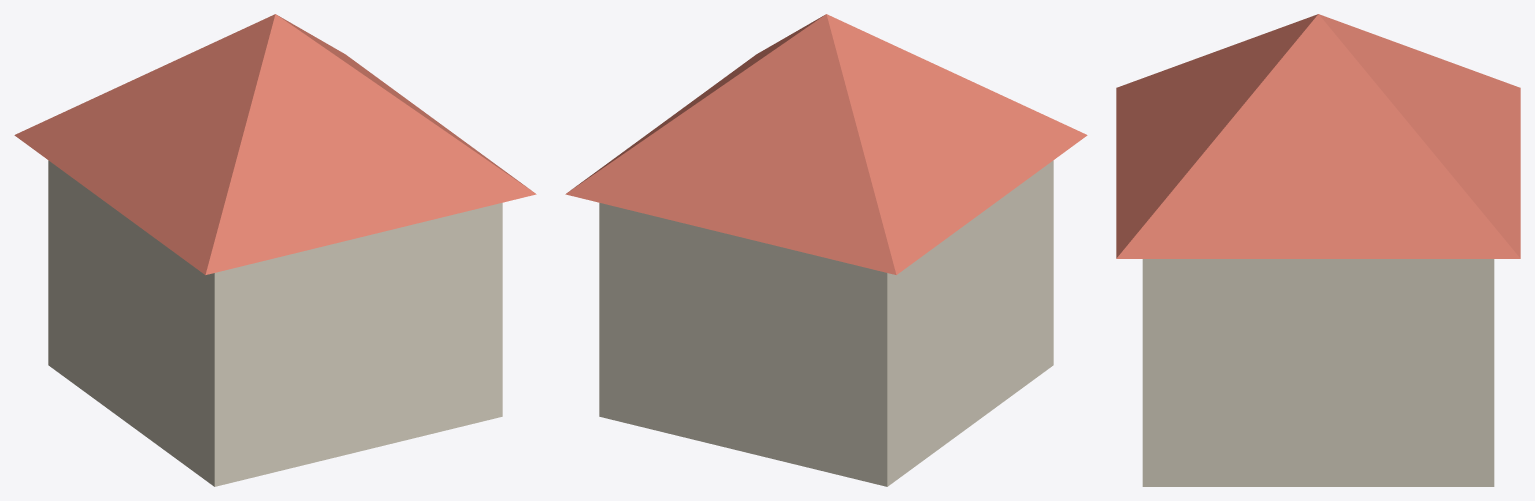
File: house.glb
The picture shows the model from 3 angles, left to right: view 1: azimuth 30°, elevation 25°; view 2: azimuth 150°, elevation 25°; view 3: azimuth 270°, elevation 25°; orthographic projection. The views are drawn at different scales.
Visible parts, largest first — view 1: Paredes, Telhado; view 2: Paredes, Telhado; view 3: Telhado, Paredes.
Boxes of the visible parts, bbox=[...] form: Paredes: bbox=[48, 160, 502, 486]; Telhado: bbox=[14, 14, 536, 274]; Paredes: bbox=[599, 160, 1053, 486]; Telhado: bbox=[565, 14, 1087, 274]; Telhado: bbox=[1116, 14, 1520, 258]; Paredes: bbox=[1142, 259, 1494, 486].
Bounding box in the file's own units: 4.6 × 5 × 4.6.
